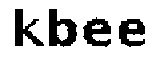b: (45, 7, 77, 51)
e: (116, 18, 147, 50), (83, 16, 112, 49)
k: (10, 5, 43, 49)
